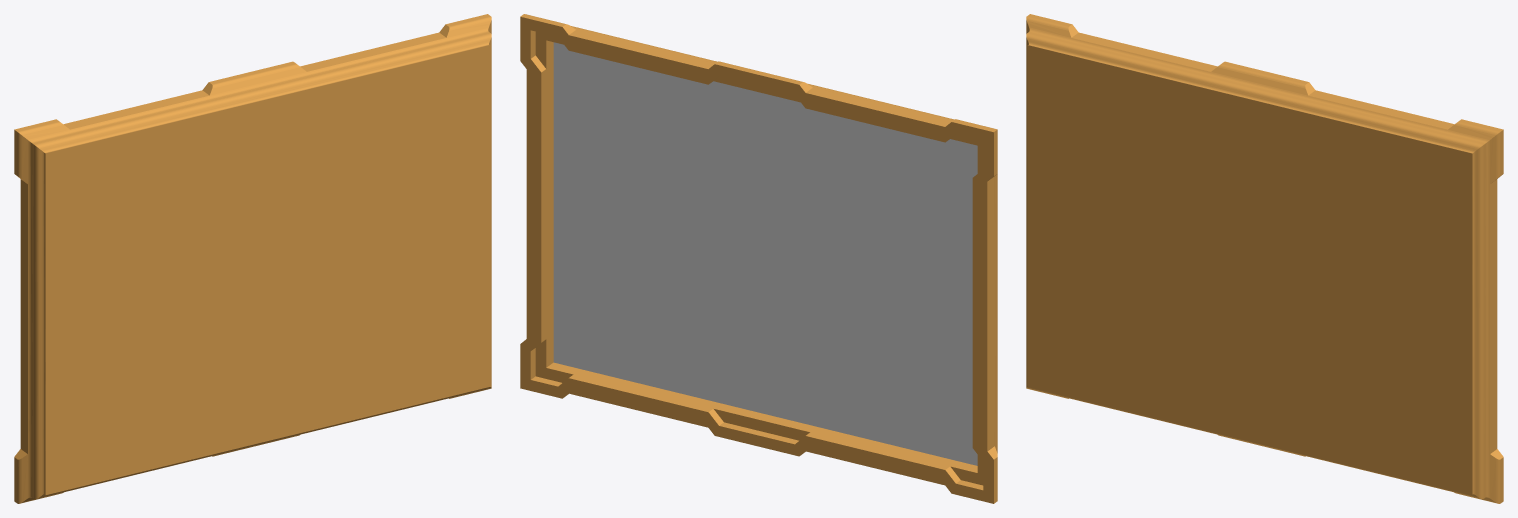
File: improvedram.fbx
3 views of the same model, side by side, from view 1: azimuth 30°, elevation 25°; view 2: azimuth 150°, elevation 25°; view 3: azimuth 330°, elevation 25° (orthographic).
Visible parts, largest first — view 1: tavla12; view 2: tavla12; view 3: tavla12.
Boxes of the visible parts, x1=… form: tavla12: x1=14, y1=14, x2=491, y2=503; tavla12: x1=520, y1=14, x2=997, y2=503; tavla12: x1=1026, y1=14, x2=1503, y2=503.
Bounding box in the file's own units: 11200 × 8400 × 700.
